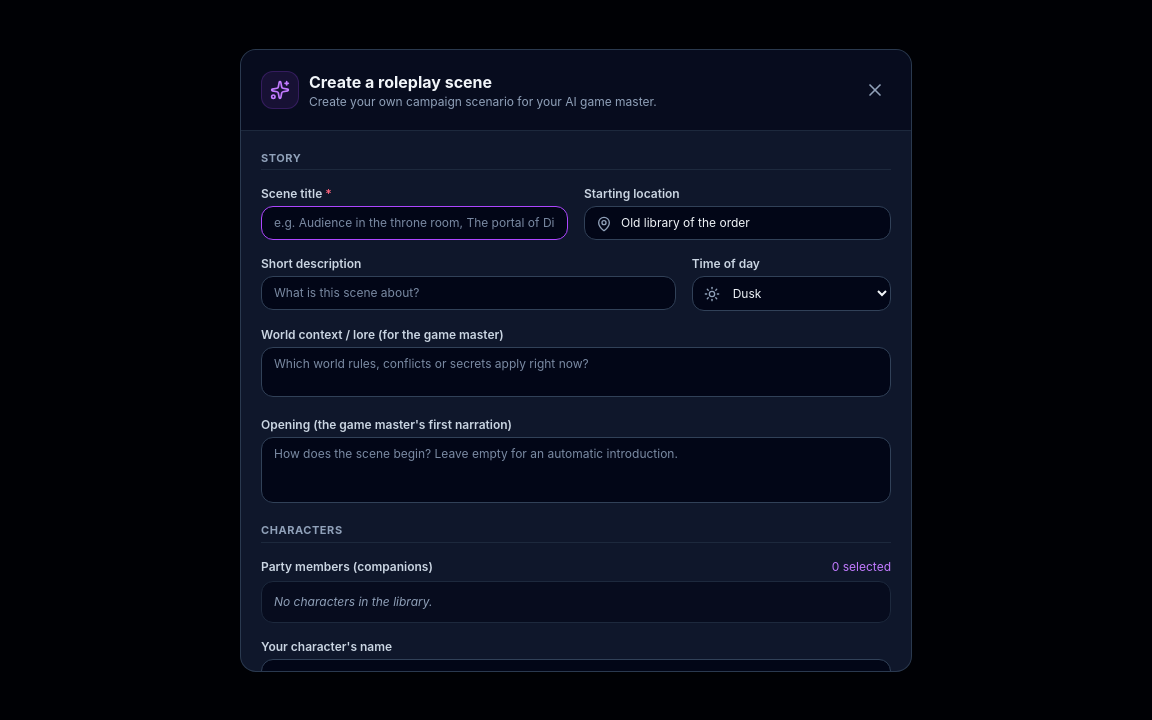
Test case: SceneCreateModal › shows why creating failed and keeps the entered values
The width and height of the screenshot is (1152, 720).
In the field labelled "Scene title *": (414, 223) [261,206,568,240], type "Die verlassene Burg"
(page scrolled)
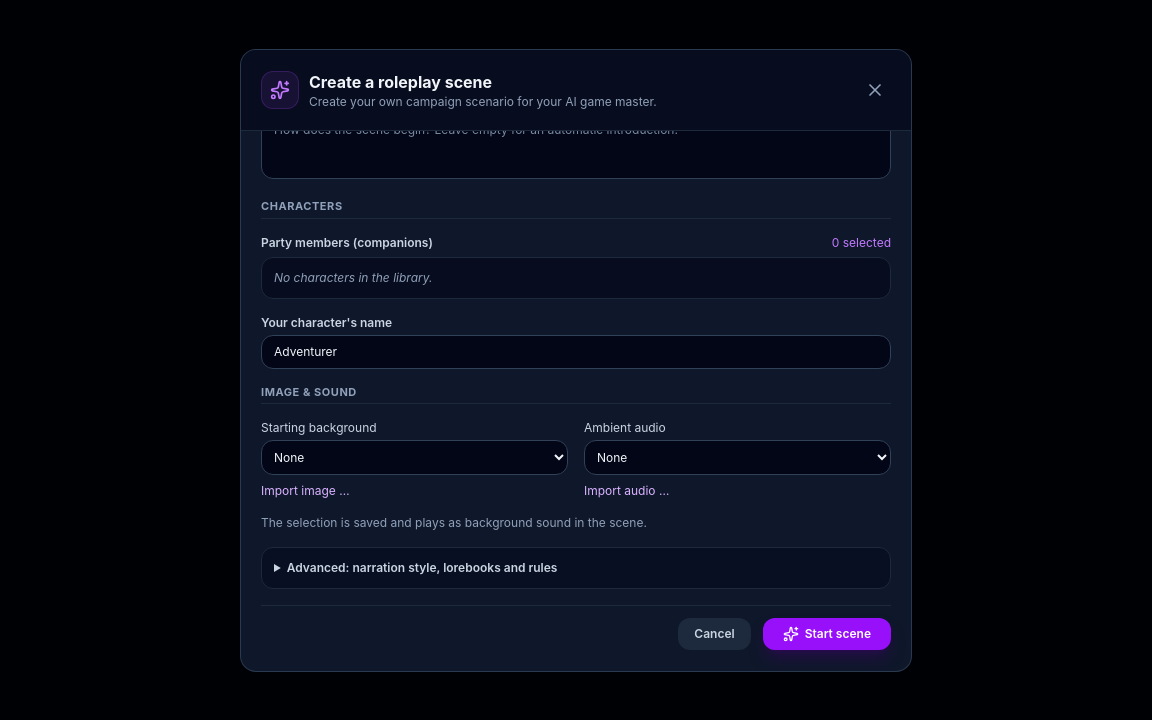
Click the button "Start scene": click(827, 634) [763,618,891,650]
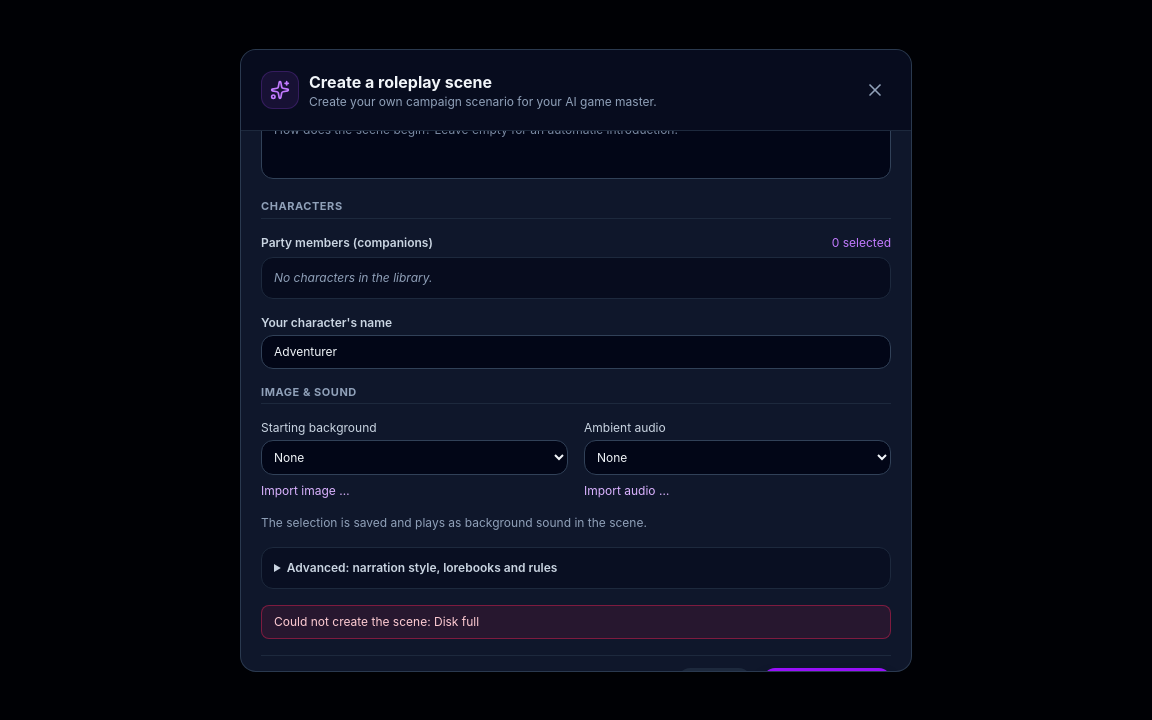
Expected: the message shows "Disk full", [274,614,479,630]
